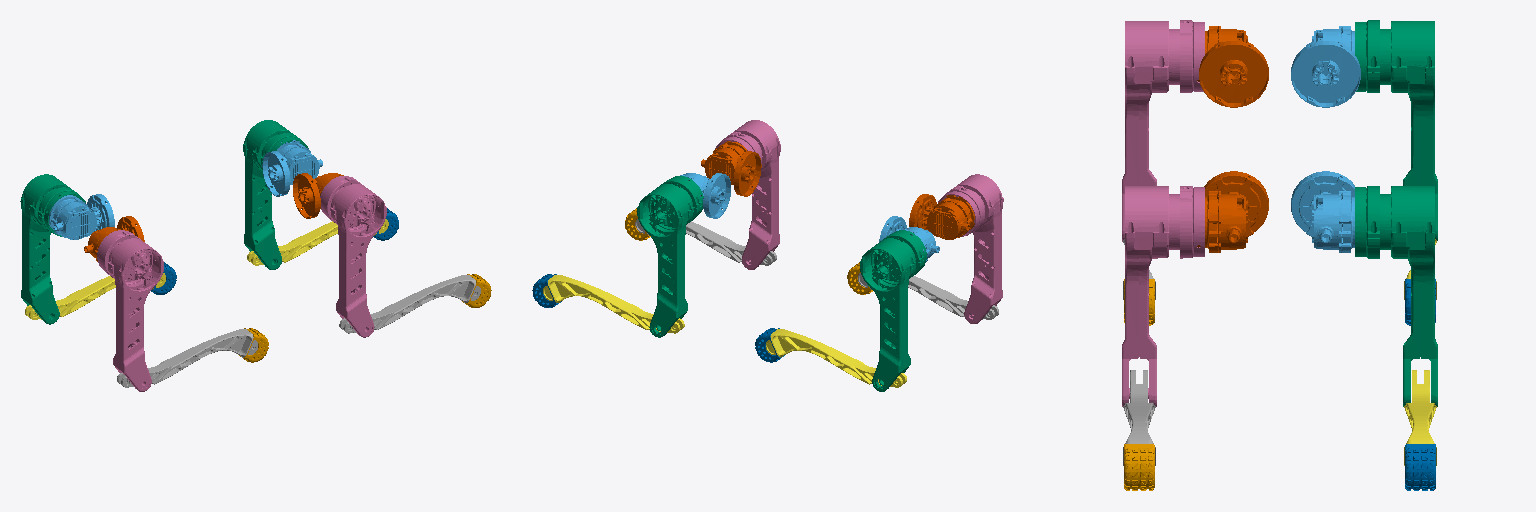
robot.urdf — bpx:
<?xml version="1.0"?>
<robot name="bpx">
  <link name="torso">
    <visual>
      <origin xyz="0 0 0" rpy="0 0 0" />
      <geometry>
        <mesh filename="../meshes/torso.obj" />
      </geometry>
    </visual>
    <collision>
      <origin xyz="0 0 0" rpy="0 0 0" />
      <geometry>
        <box size="0.3412 0.16 0.1582" />
      </geometry>
    </collision>
    <collision>
      <origin xyz="0 0 -0.09" rpy="0 0 0" />
      <geometry>
        <box size="0.3412 0.16 0.028" />
      </geometry>
    </collision>
    <collision>
      <origin xyz="0.28 0 0" rpy="0 0 0" />
      <geometry>
        <box size="0.01329 0.136 0.026" />
      </geometry>
    </collision>
    <collision>
      <origin xyz="-0.28 0 0" rpy="0 0 0" />
      <geometry>
        <box size="0.01329 0.136 0.026" />
      </geometry>
    </collision>
    <inertial>
      <origin xyz="0.0151448 0.0033341 -0.0031076" rpy="0 0 0" />
      <mass value="6.829" />
      <inertia ixx="0.0291671" ixy="0.0019891" ixz="0.0003146" iyy="0.1285119" iyz="0.0000812" izz="0.1380718" />
    </inertial>
  </link>
  <link name="fl_hip_link">
    <visual>
      <origin xyz="0 0 0" rpy="0 0 0" />
      <geometry>
        <mesh filename="../meshes/hip.obj" />
      </geometry>
    </visual>
    <inertial>
      <origin xyz="-0.0116642 0.0141251 0.000331" rpy="0 0 0" />
      <mass value="0.554" />
      <inertia ixx="0.00033" ixy="0.00004" ixz="0" iyy="0.00042" iyz="0" izz="0.000375" />
    </inertial>
  </link>
  <link name="fl_thigh_link">
    <visual>
      <origin xyz="0 0 0" rpy="0 0 0" />
      <geometry>
        <mesh filename="../meshes/l_thigh.obj" />
      </geometry>
    </visual>
    <collision>
      <origin xyz="0 -0.02482 0" rpy="-1.5707963 0 0" />
      <geometry>
        <cylinder radius="0.044" length="0.08" />
      </geometry>
    </collision>
    <collision>
      <origin xyz="-0.02 0.0017152 -0.11" rpy="-1.5707963 0 0" />
      <geometry>
        <box size="0.045 0.13 0.029" />
      </geometry>
    </collision>
    <inertial>
      <origin xyz="-0.003 -0.021 -0.05052" rpy="0 0 0" />
      <mass value="1.213" />
      <inertia ixx="0.0083046" ixy="-0.0000872" ixz="0.0003596" iyy="0.008163" iyz="-0.0013242" izz="0.0013678" />
    </inertial>
  </link>
  <link name="fl_calf_link">
    <visual>
      <origin xyz="0 0 0" rpy="0 0 0" />
      <geometry>
        <mesh filename="../meshes/calf.obj" />
      </geometry>
    </visual>
    <collision>
      <origin xyz="0.01 0 -0.1" rpy="0 -0.1396263 0" />
      <geometry>
        <box size="0.02 0.02 0.15" />
      </geometry>
    </collision>
    <collision>
      <origin xyz="0.011 0 -0.205" rpy="0 0.1221731 0" />
      <geometry>
        <box size="0.03 0.02 0.07" />
      </geometry>
    </collision>
    <inertial>
      <origin xyz="0.0057553 0 -0.10442" rpy="0 0 0" />
      <mass value="0.253" />
      <inertia ixx="0.00199" ixy="0" ixz="-0.0001442" iyy="0.00201" iyz="0" izz="0.00005" />
    </inertial>
  </link>
  <link name="fl_toe_link">
    <visual>
      <origin xyz="0 0 0" rpy="0 0 0" />
      <geometry>
        <mesh filename="../meshes/toe.obj" />
      </geometry>
    </visual>
    <collision>
      <origin xyz="0 0 -0.012" rpy="-1.5707963 0 0" />
      <geometry>
        <cylinder radius="0.027" length="0.0358" />
      </geometry>
    </collision>
    <inertial>
      <origin xyz="-0.0089593 0 -0.014631" rpy="0 0 0" />
      <mass value="0.062" />
      <inertia ixx="0.000019" ixy="0" ixz="0.0000027" iyy="0.0000263" iyz="0" izz="0.0000225" />
    </inertial>
  </link>
  <link name="fr_hip_link">
    <visual>
      <origin xyz="0 0 0" rpy="3.1416 0 0" />
      <geometry>
        <mesh filename="../meshes/hip.obj" />
      </geometry>
    </visual>
    <inertial>
      <origin xyz="-0.0116642 -0.0141251 0.000331" rpy="0 0 0" />
      <mass value="0.554" />
      <inertia ixx="0.00033" ixy="-0.00004" ixz="0" iyy="0.00042" iyz="0" izz="0.000375" />
    </inertial>
  </link>
  <link name="fr_thigh_link">
    <visual>
      <origin xyz="0 0 0" rpy="0 0 0" />
      <geometry>
        <mesh filename="../meshes/r_thigh.obj" />
      </geometry>
    </visual>
    <collision>
      <origin xyz="0 0.02482 0" rpy="-1.5707963 0 0" />
      <geometry>
        <cylinder radius="0.044" length="0.08" />
      </geometry>
    </collision>
    <collision>
      <origin xyz="-0.02 -0.0017152 -0.11" rpy="-1.5707963 0 0" />
      <geometry>
        <box size="0.045 0.13 0.029" />
      </geometry>
    </collision>
    <inertial>
      <origin xyz="-0.003 0.021 -0.05052" rpy="0 0 0" />
      <mass value="1.213" />
      <inertia ixx="0.0083046" ixy="0.0000872" ixz="0.0003596" iyy="0.008163" iyz="0.0013242" izz="0.0013678" />
    </inertial>
  </link>
  <link name="fr_calf_link">
    <visual>
      <origin xyz="0 0 0" rpy="0 0 0" />
      <geometry>
        <mesh filename="../meshes/calf.obj" />
      </geometry>
    </visual>
    <collision>
      <origin xyz="0.01 0 -0.1" rpy="0 -0.1396263 0" />
      <geometry>
        <box size="0.02 0.02 0.15" />
      </geometry>
    </collision>
    <collision>
      <origin xyz="0.011 0 -0.205" rpy="0 0.1221731 0" />
      <geometry>
        <box size="0.03 0.02 0.07" />
      </geometry>
    </collision>
    <inertial>
      <origin xyz="0.0057553 0 -0.10442" rpy="0 0 0" />
      <mass value="0.253" />
      <inertia ixx="0.00199" ixy="0" ixz="-0.0001442" iyy="0.00201" iyz="0" izz="0.00005" />
    </inertial>
  </link>
  <link name="fr_toe_link">
    <visual>
      <origin xyz="0 0 0" rpy="0 0 0" />
      <geometry>
        <mesh filename="../meshes/toe.obj" />
      </geometry>
    </visual>
    <collision>
      <origin xyz="0 0 -0.012" rpy="-1.5707963 0 0" />
      <geometry>
        <cylinder radius="0.027" length="0.0358" />
      </geometry>
    </collision>
    <inertial>
      <origin xyz="-0.0089593 0 -0.014631" rpy="0 0 0" />
      <mass value="0.062" />
      <inertia ixx="0.000019" ixy="0" ixz="0.0000027" iyy="0.0000263" iyz="0" izz="0.0000225" />
    </inertial>
  </link>
  <link name="hl_hip_link">
    <visual>
      <origin xyz="0 0 0" rpy="3.1416 0 3.1416" />
      <geometry>
        <mesh filename="../meshes/hip.obj" />
      </geometry>
    </visual>
    <inertial>
      <origin xyz="-0.0116642 0.0141251 0.000331" rpy="0 0 0" />
      <mass value="0.554" />
      <inertia ixx="0.00033" ixy="0.00004" ixz="0" iyy="0.00042" iyz="0" izz="0.000375" />
    </inertial>
  </link>
  <link name="hl_thigh_link">
    <visual>
      <origin xyz="0 0 0" rpy="0 0 0" />
      <geometry>
        <mesh filename="../meshes/l_thigh.obj" />
      </geometry>
    </visual>
    <collision>
      <origin xyz="0 -0.02482 0" rpy="-1.5707963 0 0" />
      <geometry>
        <cylinder radius="0.044" length="0.08" />
      </geometry>
    </collision>
    <collision>
      <origin xyz="-0.02 0.0017152 -0.11" rpy="-1.5707963 0 0" />
      <geometry>
        <box size="0.045 0.13 0.029" />
      </geometry>
    </collision>
    <inertial>
      <origin xyz="-0.003 -0.021 -0.05052" rpy="0 0 0" />
      <mass value="1.213" />
      <inertia ixx="0.0083046" ixy="-0.0000872" ixz="0.0003596" iyy="0.008163" iyz="-0.0013242" izz="0.0013678" />
    </inertial>
  </link>
  <link name="hl_calf_link">
    <visual>
      <origin xyz="0 0 0" rpy="0 0 0" />
      <geometry>
        <mesh filename="../meshes/calf.obj" />
      </geometry>
    </visual>
    <collision>
      <origin xyz="0.01 0 -0.1" rpy="0 -0.1396263 0" />
      <geometry>
        <box size="0.02 0.02 0.15" />
      </geometry>
    </collision>
    <collision>
      <origin xyz="0.011 0 -0.205" rpy="0 0.1221731 0" />
      <geometry>
        <box size="0.03 0.02 0.07" />
      </geometry>
    </collision>
    <inertial>
      <origin xyz="0.0057553 0 -0.10442" rpy="0 0 0" />
      <mass value="0.253" />
      <inertia ixx="0.00199" ixy="0" ixz="-0.0001442" iyy="0.00201" iyz="0" izz="0.00005" />
    </inertial>
  </link>
  <link name="hl_toe_link">
    <visual>
      <origin xyz="0 0 0" rpy="0 0 0" />
      <geometry>
        <mesh filename="../meshes/toe.obj" />
      </geometry>
    </visual>
    <collision>
      <origin xyz="0 0 -0.012" rpy="-1.5707963 0 0" />
      <geometry>
        <cylinder radius="0.027" length="0.0358" />
      </geometry>
    </collision>
    <inertial>
      <origin xyz="-0.0089593 0 -0.014631" rpy="0 0 0" />
      <mass value="0.062" />
      <inertia ixx="0.000019" ixy="0" ixz="0.0000027" iyy="0.0000263" iyz="0" izz="0.0000225" />
    </inertial>
  </link>
  <link name="hr_hip_link">
    <visual>
      <origin xyz="0 0 0" rpy="0 0 3.1416" />
      <geometry>
        <mesh filename="../meshes/hip.obj" />
      </geometry>
    </visual>
    <inertial>
      <origin xyz="-0.0116642 -0.0141251 0.000331" rpy="0 0 0" />
      <mass value="0.554" />
      <inertia ixx="0.00033" ixy="-0.00004" ixz="0" iyy="0.00042" iyz="0" izz="0.000375" />
    </inertial>
  </link>
  <link name="hr_thigh_link">
    <visual>
      <origin xyz="0 0 0" rpy="0 0 0" />
      <geometry>
        <mesh filename="../meshes/r_thigh.obj" />
      </geometry>
    </visual>
    <collision>
      <origin xyz="0 0.02482 0" rpy="-1.5707963 0 0" />
      <geometry>
        <cylinder radius="0.044" length="0.08" />
      </geometry>
    </collision>
    <collision>
      <origin xyz="-0.02 -0.0017152 -0.11" rpy="-1.5707963 0 0" />
      <geometry>
        <box size="0.045 0.13 0.029" />
      </geometry>
    </collision>
    <inertial>
      <origin xyz="-0.003 0.021 -0.05052" rpy="0 0 0" />
      <mass value="1.213" />
      <inertia ixx="0.0083046" ixy="0.0000872" ixz="0.0003596" iyy="0.008163" iyz="0.0013242" izz="0.0013678" />
    </inertial>
  </link>
  <link name="hr_calf_link">
    <visual>
      <origin xyz="0 0 0" rpy="0 0 0" />
      <geometry>
        <mesh filename="../meshes/calf.obj" />
      </geometry>
    </visual>
    <collision>
      <origin xyz="0.01 0 -0.1" rpy="0 -0.1396263 0" />
      <geometry>
        <box size="0.02 0.02 0.15" />
      </geometry>
    </collision>
    <collision>
      <origin xyz="0.011 0 -0.205" rpy="0 0.1221731 0" />
      <geometry>
        <box size="0.03 0.02 0.07" />
      </geometry>
    </collision>
    <inertial>
      <origin xyz="0.0057553 0 -0.10442" rpy="0 0 0" />
      <mass value="0.253" />
      <inertia ixx="0.00199" ixy="0" ixz="-0.0001442" iyy="0.00201" iyz="0" izz="0.00005" />
    </inertial>
  </link>
  <link name="hr_toe_link">
    <visual>
      <origin xyz="0 0 0" rpy="0 0 0" />
      <geometry>
        <mesh filename="../meshes/toe.obj" />
      </geometry>
    </visual>
    <collision>
      <origin xyz="0 0 -0.012" rpy="-1.5707963 0 0" />
      <geometry>
        <cylinder radius="0.027" length="0.0358" />
      </geometry>
    </collision>
    <inertial>
      <origin xyz="-0.0089593 0 -0.014631" rpy="0 0 0" />
      <mass value="0.062" />
      <inertia ixx="0.000019" ixy="0" ixz="0.0000027" iyy="0.0000263" iyz="0" izz="0.0000225" />
    </inertial>
  </link>
  <joint name="fl_hip_roll_joint" type="revolute">
    <parent link="torso" />
    <child link="fl_hip_link" />
    <origin xyz="0.2386 0.056 0" rpy="0 0 0" />
    <axis xyz="1 0 0" />
    <limit lower="-0.8727" upper="0.8727" effort="20" velocity="12" />
  </joint>
  <joint name="fl_hip_pitch_joint" type="revolute">
    <parent link="fl_hip_link" />
    <child link="fl_thigh_link" />
    <origin xyz="0 0.11522 0" rpy="0 0 0" />
    <axis xyz="0 1 0" />
    <limit lower="-0.7854" upper="2.60661" effort="20" velocity="12" />
  </joint>
  <joint name="fl_knee_joint" type="revolute">
    <parent link="fl_thigh_link" />
    <child link="fl_calf_link" />
    <origin xyz="0 0 -0.23" rpy="0 0 0" />
    <axis xyz="0 1 0" />
    <limit lower="-2.7531" upper="-0.5539" effort="40" velocity="10" />
  </joint>
  <joint name="fl_ankle_joint" type="fixed" dont_collapse="true">
    <parent link="fl_calf_link" />
    <child link="fl_toe_link" />
    <origin xyz="0 0 -0.2315648" rpy="0 0 0" />
  </joint>
  <joint name="fr_hip_roll_joint" type="revolute">
    <parent link="torso" />
    <child link="fr_hip_link" />
    <origin xyz="0.2386 -0.056 0" rpy="0 0 0" />
    <axis xyz="1 0 0" />
    <limit lower="-0.8727" upper="0.8727" effort="20" velocity="12" />
  </joint>
  <joint name="fr_hip_pitch_joint" type="revolute">
    <parent link="fr_hip_link" />
    <child link="fr_thigh_link" />
    <origin xyz="0 -0.11522 0" rpy="0 0 0" />
    <axis xyz="0 1 0" />
    <limit lower="-0.7854" upper="2.60661" effort="20" velocity="12" />
  </joint>
  <joint name="fr_knee_joint" type="revolute">
    <parent link="fr_thigh_link" />
    <child link="fr_calf_link" />
    <origin xyz="0 0 -0.23" rpy="0 0 0" />
    <axis xyz="0 1 0" />
    <limit lower="-2.7531" upper="-0.5539" effort="40" velocity="10" />
  </joint>
  <joint name="fr_ankle_joint" type="fixed" dont_collapse="true">
    <parent link="fr_calf_link" />
    <child link="fr_toe_link" />
    <origin xyz="0 0 -0.2315648" rpy="0 0 0" />
  </joint>
  <joint name="hl_hip_roll_joint" type="revolute">
    <parent link="torso" />
    <child link="hl_hip_link" />
    <origin xyz="-0.2386 0.056 0" rpy="0 0 0" />
    <axis xyz="1 0 0" />
    <limit lower="-0.8727" upper="0.8727" effort="20" velocity="12" />
  </joint>
  <joint name="hl_hip_pitch_joint" type="revolute">
    <parent link="hl_hip_link" />
    <child link="hl_thigh_link" />
    <origin xyz="0 0.11522 0" rpy="0 0 0" />
    <axis xyz="0 1 0" />
    <limit lower="-0.7854" upper="2.60661" effort="20" velocity="12" />
  </joint>
  <joint name="hl_knee_joint" type="revolute">
    <parent link="hl_thigh_link" />
    <child link="hl_calf_link" />
    <origin xyz="0 0 -0.23" rpy="0 0 0" />
    <axis xyz="0 1 0" />
    <limit lower="-2.7531" upper="-0.5539" effort="40" velocity="10" />
  </joint>
  <joint name="hl_ankle_joint" type="fixed" dont_collapse="true">
    <parent link="hl_calf_link" />
    <child link="hl_toe_link" />
    <origin xyz="0 0 -0.2315648" rpy="0 0 0" />
  </joint>
  <joint name="hr_hip_roll_joint" type="revolute">
    <parent link="torso" />
    <child link="hr_hip_link" />
    <origin xyz="-0.2386 -0.056 0" rpy="0 0 0" />
    <axis xyz="1 0 0" />
    <limit lower="-0.8727" upper="0.8727" effort="20" velocity="12" />
  </joint>
  <joint name="hr_hip_pitch_joint" type="revolute">
    <parent link="hr_hip_link" />
    <child link="hr_thigh_link" />
    <origin xyz="0 -0.11522 0" rpy="0 0 0" />
    <axis xyz="0 1 0" />
    <limit lower="-0.7854" upper="2.60661" effort="20" velocity="12" />
  </joint>
  <joint name="hr_knee_joint" type="revolute">
    <parent link="hr_thigh_link" />
    <child link="hr_calf_link" />
    <origin xyz="0 0 -0.23" rpy="0 0 0" />
    <axis xyz="0 1 0" />
    <limit lower="-2.7531" upper="-0.5539" effort="40" velocity="10" />
  </joint>
  <joint name="hr_ankle_joint" type="fixed" dont_collapse="true">
    <parent link="hr_calf_link" />
    <child link="hr_toe_link" />
    <origin xyz="0 0 -0.2315648" rpy="0 0 0" />
  </joint>
</robot>

--- Render facts (derived) ---
3 views of the same robot in one strip: view 1: azimuth 30°, elevation 25°; view 2: azimuth 150°, elevation 25°; view 3: azimuth 270°, elevation 25° (orthographic).
Model bpx with 17 links and 16 joints (12 revolute, 4 fixed), rooted at torso, posed all joints at 0 but 4 set to mid-range because 0 is outside their limits (fl_knee_joint = -1.65, fr_knee_joint = -1.65, hl_knee_joint = -1.65, hr_knee_joint = -1.65).
Links seen in each view (by area): view 1: hr_thigh_link, fr_thigh_link, hl_thigh_link, fl_thigh_link, hl_hip_link, hr_calf_link, fr_calf_link, fl_hip_link, fr_hip_link, fl_calf_link, hl_calf_link, hr_hip_link; view 2: hl_thigh_link, fl_thigh_link, hr_thigh_link, fr_thigh_link, hr_hip_link, hl_calf_link, fl_calf_link, fr_hip_link, fl_hip_link, fr_calf_link, hr_calf_link, hl_hip_link; view 3: fl_thigh_link, fr_thigh_link, hl_thigh_link, hr_thigh_link, hr_hip_link, hl_hip_link, fr_hip_link, fl_hip_link, fl_calf_link, fr_calf_link, fl_toe_link, fr_toe_link.
Link boxes in pixels (bbox=[...]): hr_thigh_link: bbox=[97, 230, 163, 391]; fr_thigh_link: bbox=[320, 176, 386, 337]; hl_thigh_link: bbox=[20, 174, 85, 324]; fl_thigh_link: bbox=[243, 120, 308, 269]; hl_hip_link: bbox=[49, 194, 114, 239]; hr_calf_link: bbox=[117, 329, 257, 387]; fr_calf_link: bbox=[339, 275, 480, 333]; fl_hip_link: bbox=[262, 140, 322, 196]; fr_hip_link: bbox=[293, 173, 343, 218]; fl_calf_link: bbox=[247, 219, 388, 265]; hl_calf_link: bbox=[25, 273, 165, 319]; hr_hip_link: bbox=[84, 216, 144, 261]; hl_thigh_link: bbox=[860, 230, 926, 391]; fl_thigh_link: bbox=[637, 176, 703, 337]; hr_thigh_link: bbox=[938, 174, 1003, 323]; fr_thigh_link: bbox=[715, 120, 780, 269]; hr_hip_link: bbox=[909, 194, 974, 239]; hl_calf_link: bbox=[766, 329, 906, 387]; fl_calf_link: bbox=[543, 275, 684, 333]; fr_hip_link: bbox=[701, 141, 761, 196]; fl_hip_link: bbox=[680, 173, 730, 218]; fr_calf_link: bbox=[635, 219, 776, 265]; hr_calf_link: bbox=[858, 273, 998, 319]; hl_hip_link: bbox=[879, 216, 939, 261]; fl_thigh_link: bbox=[1355, 186, 1437, 406]; fr_thigh_link: bbox=[1122, 186, 1204, 406]; hl_thigh_link: bbox=[1355, 20, 1437, 240]; hr_thigh_link: bbox=[1122, 20, 1204, 241]; hr_hip_link: bbox=[1197, 26, 1268, 107]; hl_hip_link: bbox=[1291, 26, 1360, 107]; fr_hip_link: bbox=[1197, 171, 1268, 252]; fl_hip_link: bbox=[1291, 171, 1354, 252]; fl_calf_link: bbox=[1404, 370, 1436, 465]; fr_calf_link: bbox=[1123, 370, 1155, 465]; fl_toe_link: bbox=[1405, 444, 1435, 490]; fr_toe_link: bbox=[1124, 444, 1154, 490].
Bounding box of the posed robot: 0.7955 × 0.3858 × 0.2943 m (x, y, z).
16 mesh visuals loaded from 6 distinct referenced files (5 OBJ); not drawn: 1 (reference not matched to a file when rendering).
